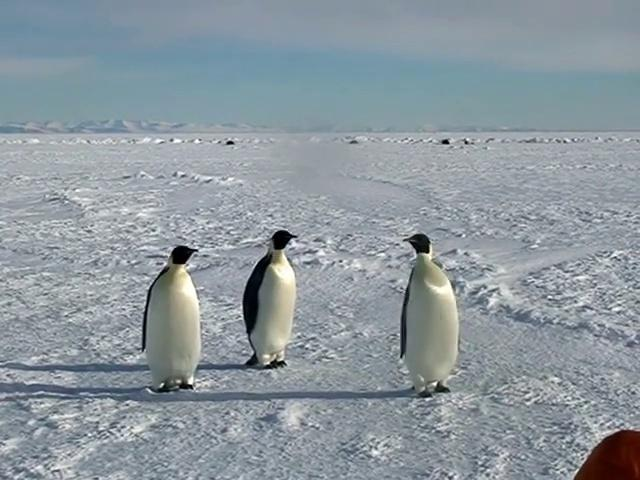animal: (402, 235, 460, 397)
